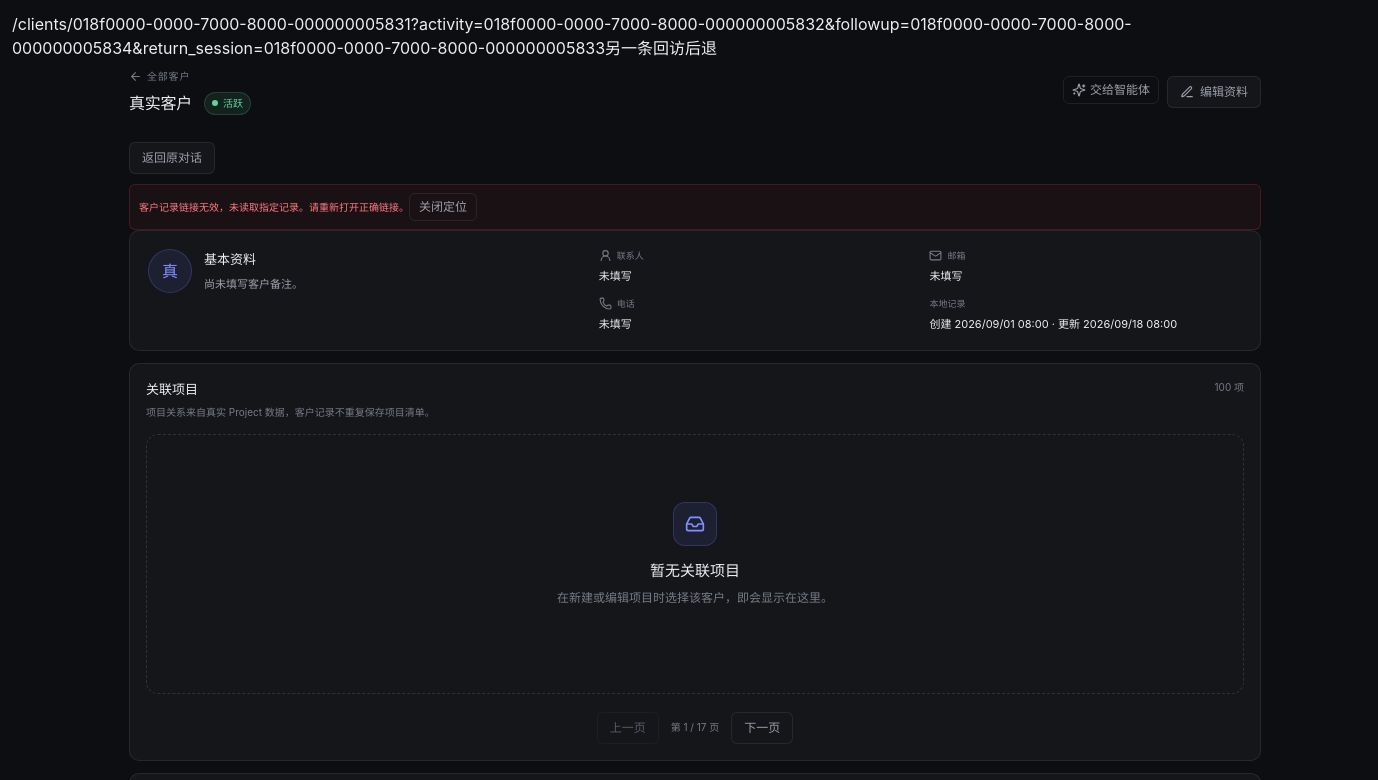
it: AI to exact Client record and back › rejects ambiguous links and keeps a return path even if the customer is unavailable
Expected: the message shows "客户记录链接无效", 139,201 -> 409,213
Expected: the link "返回原对话" is shown, 129,142 -> 215,174
Click the link "另一条回访".
click(645, 48)  # box 605,38 -> 685,58
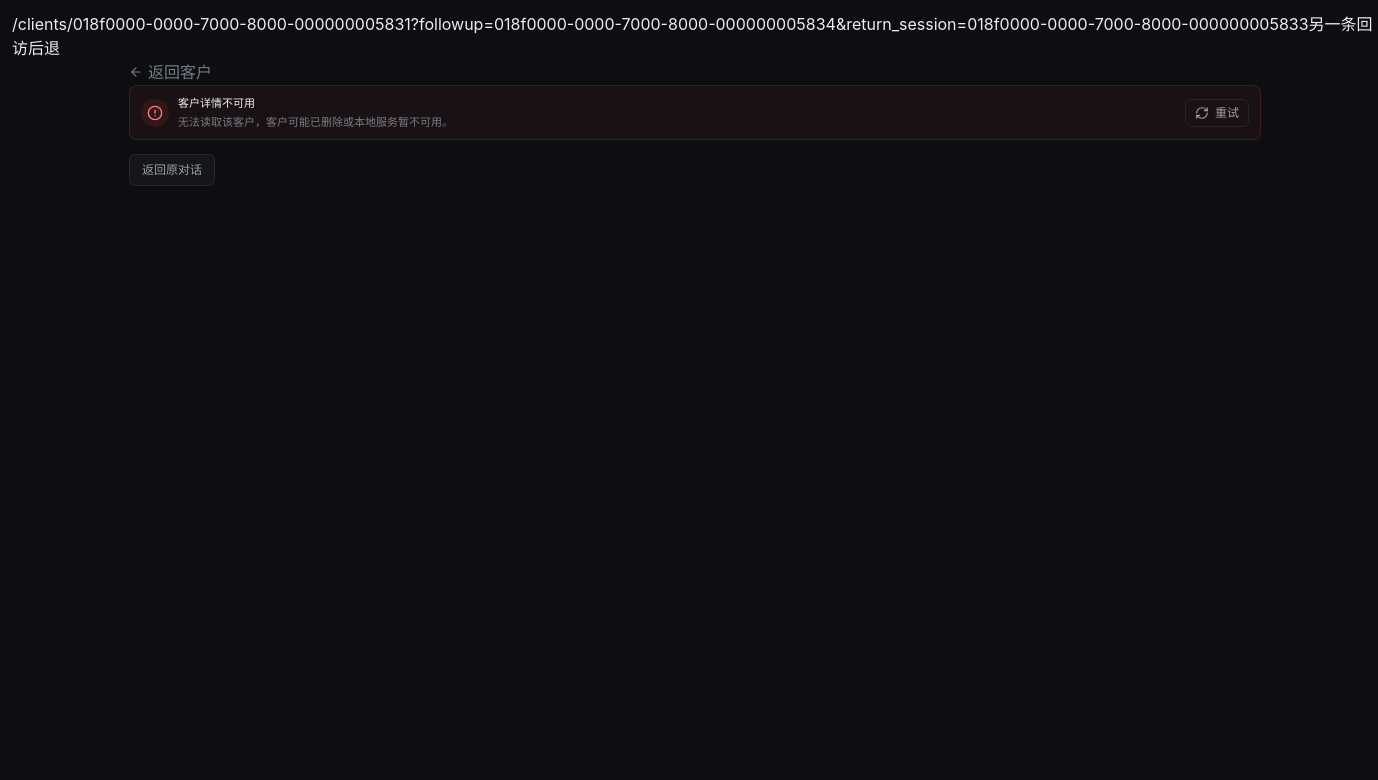
Expected: the link "返回原对话" is shown, 129,154 -> 215,186
Result: the text "客户详情不可用" is shown at 178,96 -> 255,110
